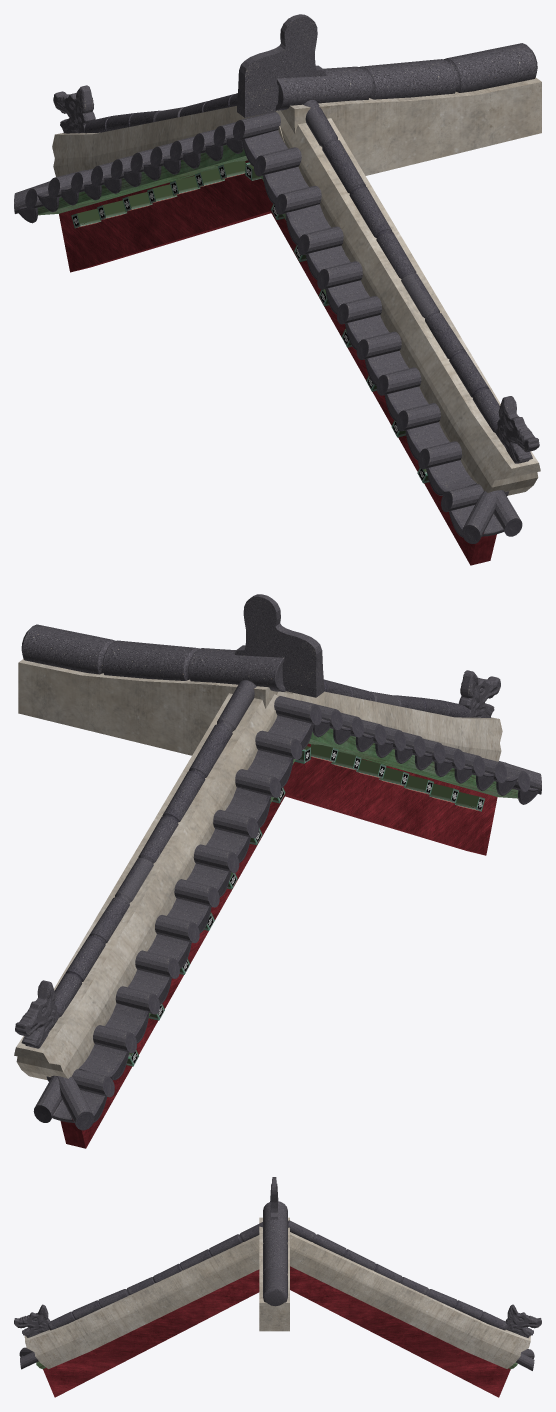
Rendered from SM_R_RoofOuter_14.fbx.
3 renders of one model, top to bottom at view 1: azimuth 30°, elevation 25°; view 2: azimuth 150°, elevation 25°; view 3: azimuth 270°, elevation 25°, orthographic. The views are drawn at different scales.
Parts seen in each view (by area): view 1: SM_R_RoofOuter_14; view 2: SM_R_RoofOuter_14; view 3: SM_R_RoofOuter_14.
Part boxes in pixels (<box>): SM_R_RoofOuter_14: <box>14,14,541,565</box>; SM_R_RoofOuter_14: <box>14,594,541,1148</box>; SM_R_RoofOuter_14: <box>14,1177,541,1397</box>.
Size of the model in its own units: 370 by 1046 by 483.
4 materials, 4 textured.
